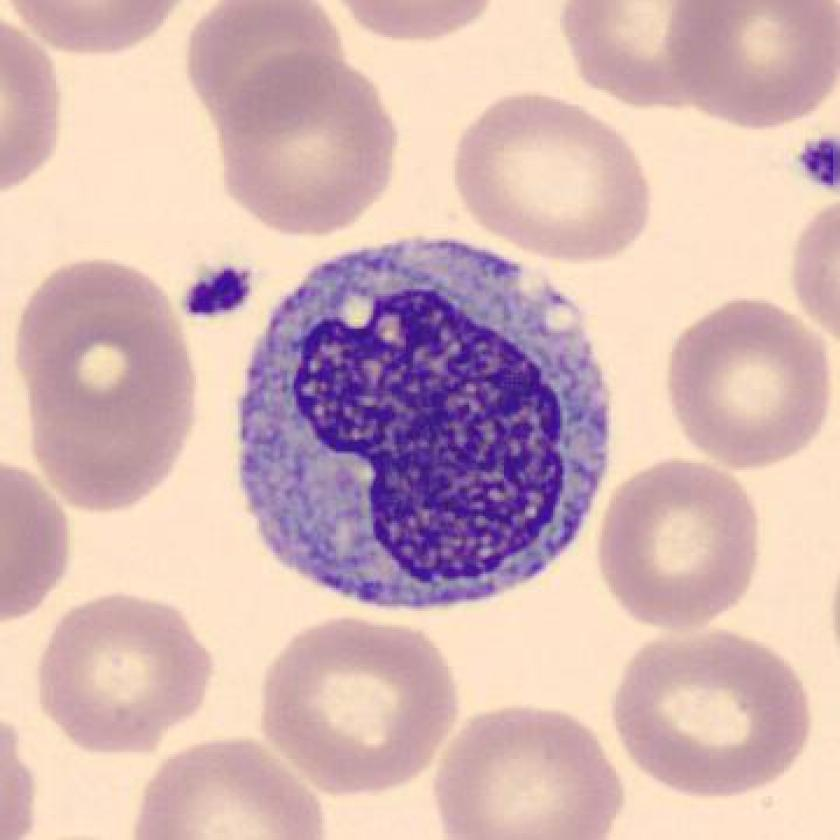monocyte: (223, 223, 629, 631)
